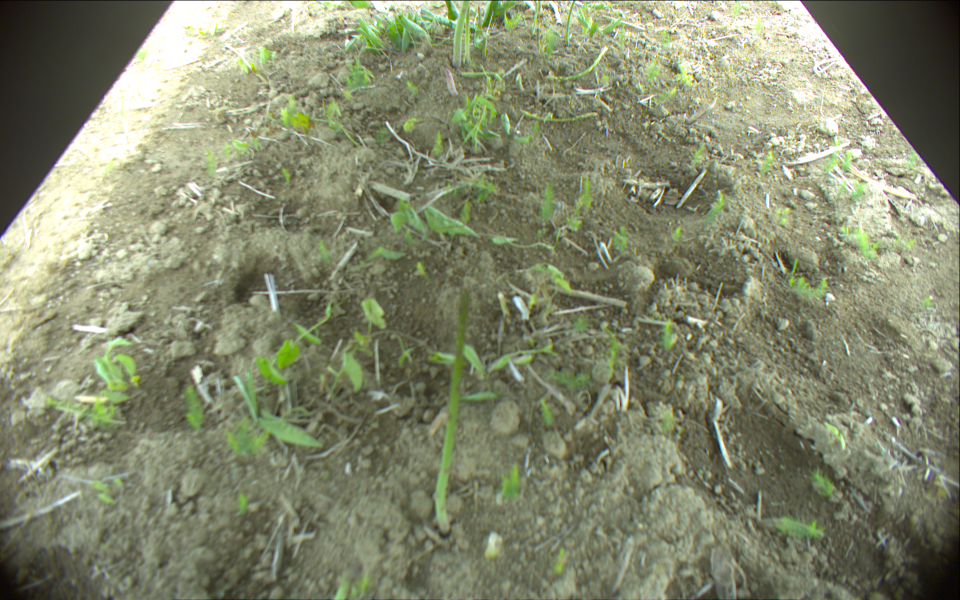aspa: (433, 289, 470, 534), (542, 48, 608, 79), (452, 1, 467, 67), (520, 109, 598, 121), (463, 8, 471, 64), (567, 1, 577, 41), (462, 72, 501, 82), (477, 6, 483, 36)
